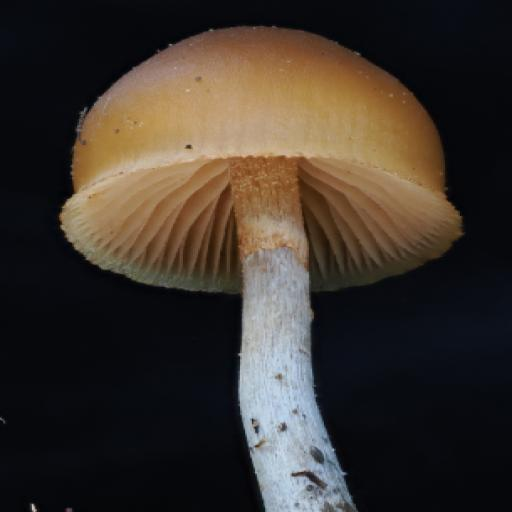mushroom: (49, 12, 475, 417)
